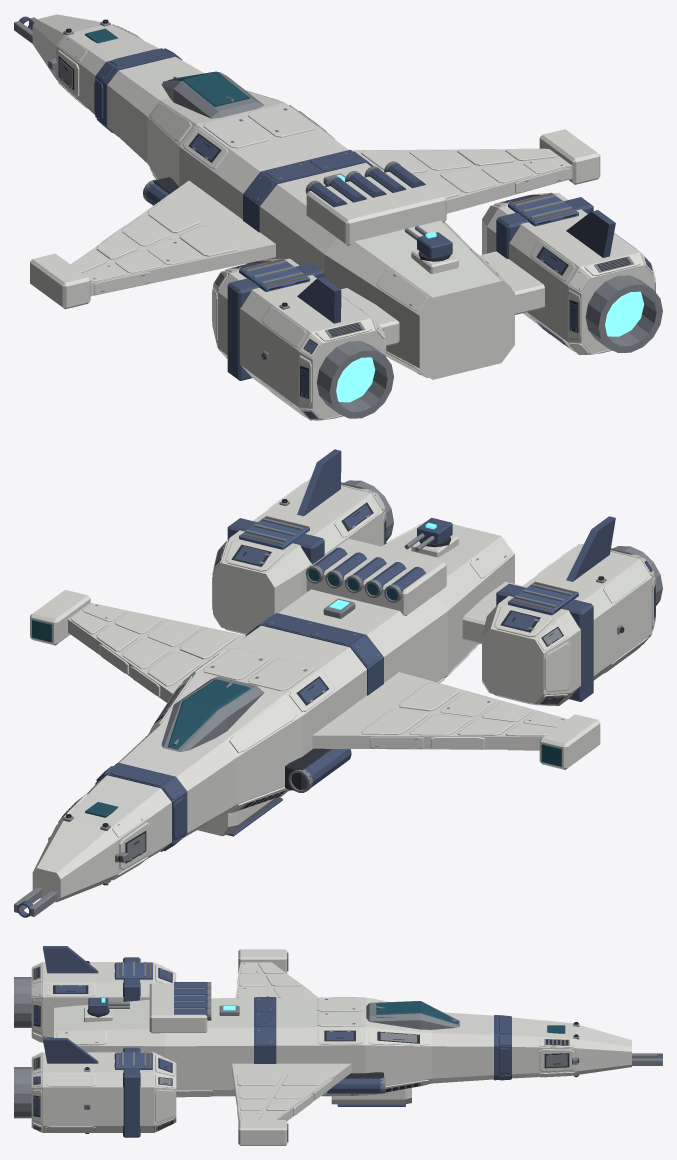
Rendered from earth_recon_t4.glb.
3 views of the same model, one above another, from view 1: azimuth 30°, elevation 25°; view 2: azimuth 150°, elevation 25°; view 3: azimuth 270°, elevation 25° (orthographic). The views are drawn at different scales.
Parts seen in each view (by area): view 1: FleetHull, mesh_pd_yaw_1; view 2: FleetHull; view 3: FleetHull, mesh_pd_yaw_1.
Boxes of the visible parts, left/top/right/bottom form: FleetHull: left=14, top=14, right=662, bottom=420; mesh_pd_yaw_1: left=417, top=232, right=452, bottom=259; FleetHull: left=14, top=449, right=662, bottom=917; FleetHull: left=14, top=946, right=662, bottom=1145; mesh_pd_yaw_1: left=88, top=998, right=108, bottom=1013.
Size of the model in its own units: 19.2 by 5.32 by 29.2.
